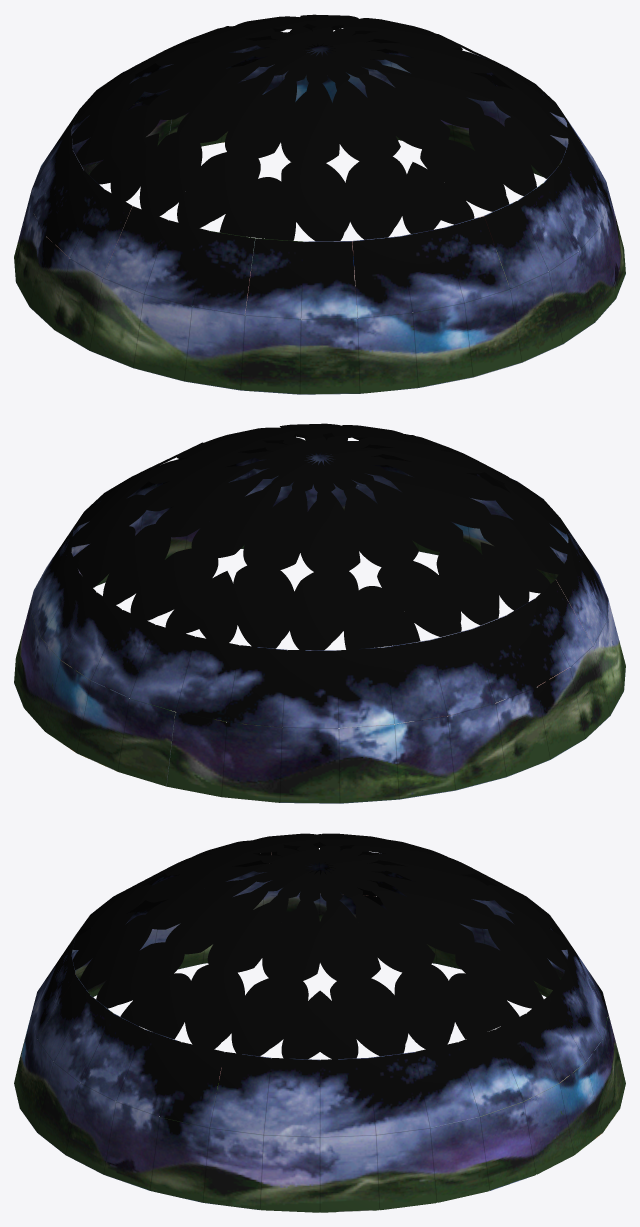
The picture shows the model from 3 angles, top to bottom: view 1: azimuth 30°, elevation 25°; view 2: azimuth 150°, elevation 25°; view 3: azimuth 270°, elevation 25°; orthographic projection.
Visible parts, largest first — view 1: T1L3M009_29; view 2: T1L3M009_29; view 3: T1L3M009_29.
Boxes of the visible parts, x1,y1,x2,y2 form: T1L3M009_29: (14, 14, 625, 394); T1L3M009_29: (14, 423, 625, 803); T1L3M009_29: (14, 833, 625, 1212).
Bounding box in the file's own units: 4.09 × 1.6 × 4.09.
Materials: 1 (1 with a texture image).
